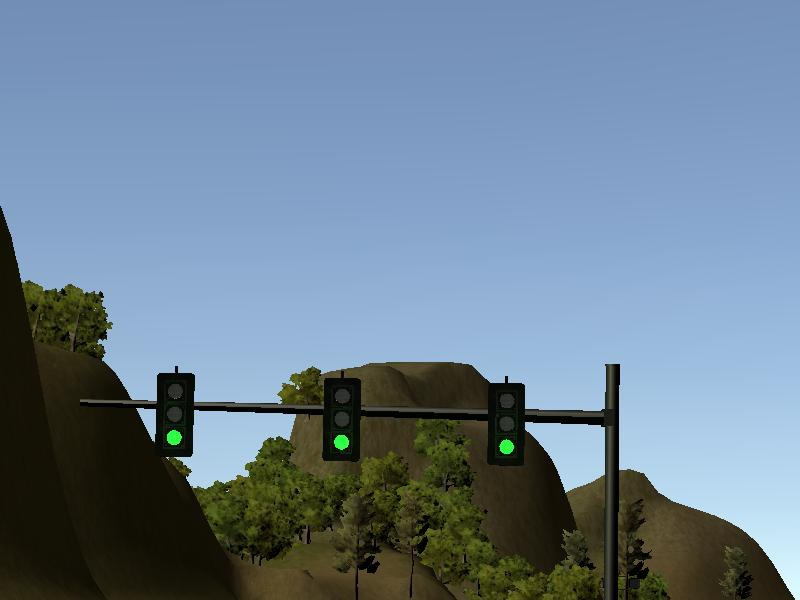Green: (158, 373, 193, 455), (325, 378, 358, 460), (490, 384, 522, 464)
